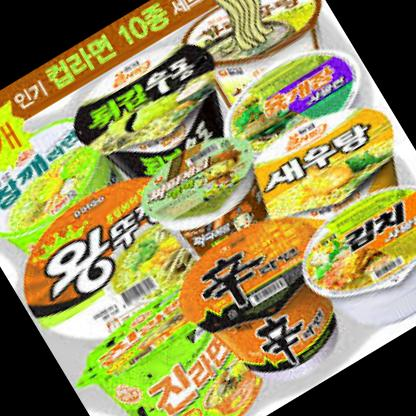Ramen: (0, 151, 235, 375), (164, 192, 381, 408), (62, 27, 248, 210), (64, 268, 293, 416), (229, 82, 416, 254), (133, 119, 297, 278), (211, 27, 384, 176), (285, 163, 416, 347), (0, 105, 140, 270), (172, 0, 347, 120)
